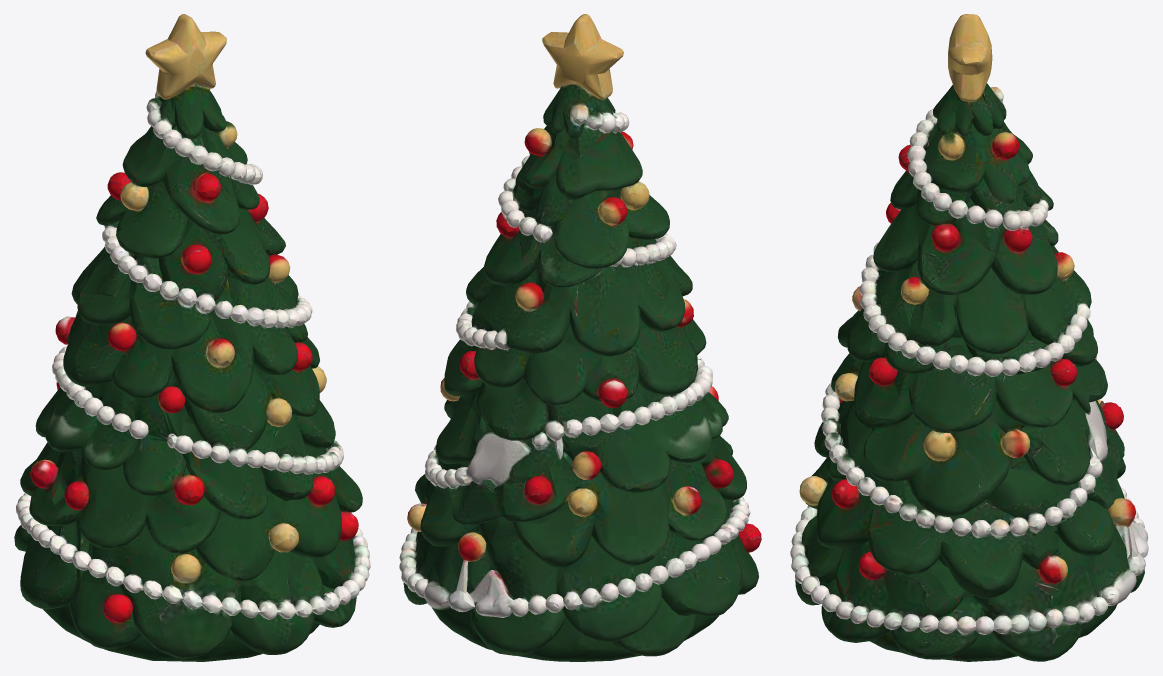
3 views of the same model, side by side, from view 1: azimuth 30°, elevation 25°; view 2: azimuth 150°, elevation 25°; view 3: azimuth 270°, elevation 25° (orthographic).
Visible parts, largest first — view 1: output_unwrapped; view 2: output_unwrapped; view 3: output_unwrapped.
Part boxes in pixels (x1,y1,x2,y2): output_unwrapped: (14, 14, 370, 661); output_unwrapped: (399, 14, 761, 661); output_unwrapped: (790, 14, 1148, 661).
Size of the model in its own units: 1.05 by 1.9 by 1.05.
1 material, 1 textured.
